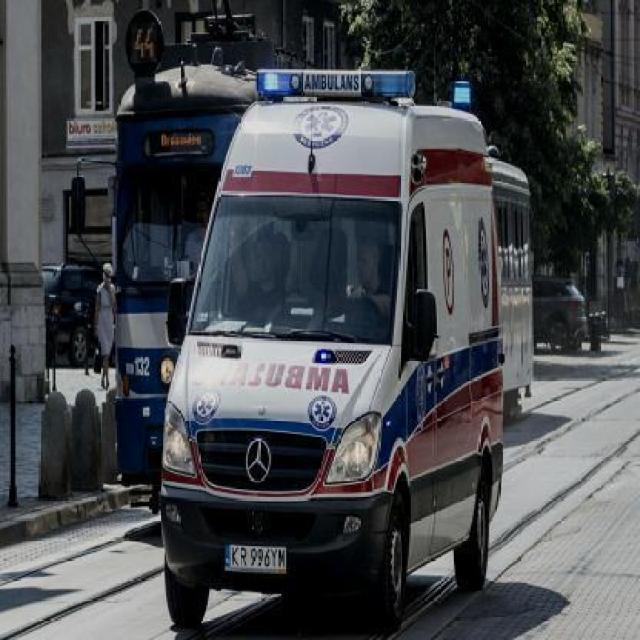emergency: (161, 72, 503, 636)
